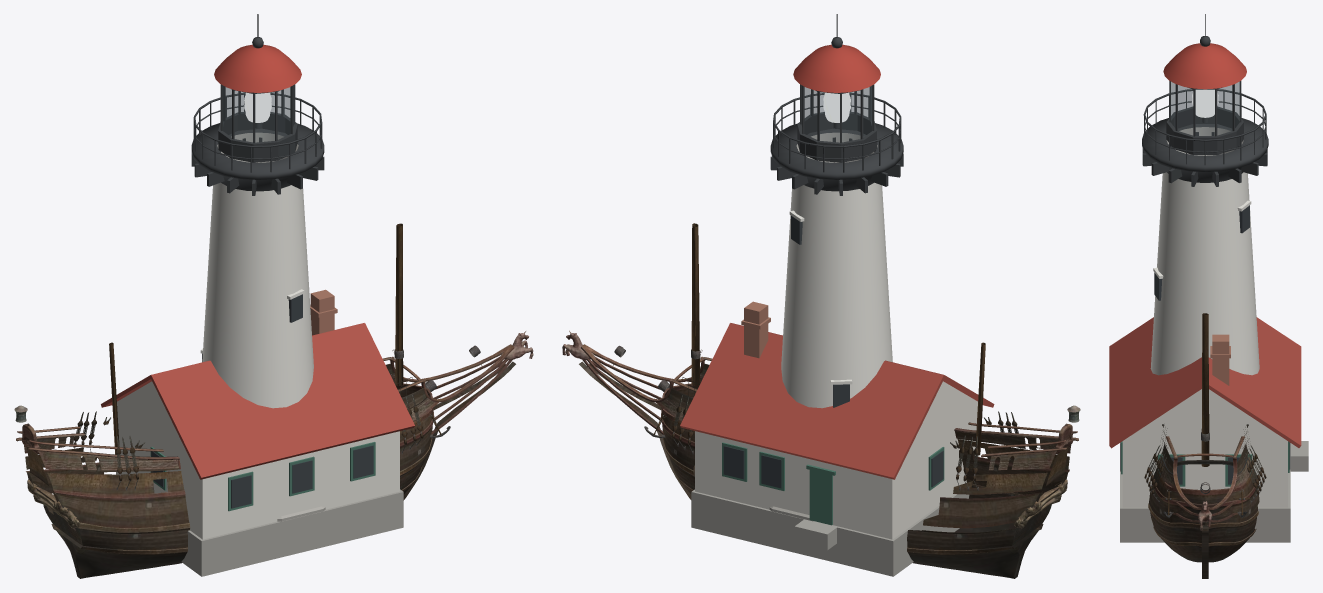
The model's file is coast.glb.
3 views of the same model, side by side, from view 1: azimuth 30°, elevation 25°; view 2: azimuth 150°, elevation 25°; view 3: azimuth 270°, elevation 25° (orthographic). The views are drawn at different scales.
Visible parts, largest first — view 1: keeper_house, lighthouse, wreck; view 2: keeper_house, lighthouse, wreck; view 3: lighthouse, keeper_house, wreck.
Boxes of the visible parts, x1=… form: keeper_house: x1=101, y1=289, x2=414, y2=576; lighthouse: x1=191, y1=14, x2=325, y2=521; wreck: x1=14, y1=223, x2=533, y2=578; keeper_house: x1=680, y1=301, x2=994, y2=576; lighthouse: x1=769, y1=14, x2=903, y2=521; wreck: x1=562, y1=223, x2=1080, y2=578; lighthouse: x1=1120, y1=14, x2=1290, y2=471; keeper_house: x1=1109, y1=317, x2=1308, y2=542; wreck: x1=1144, y1=313, x2=1266, y2=578.
Bounding box in the file's own units: 21.96 × 21.33 × 7.71.
Materials: 16 (4 with a texture image).
